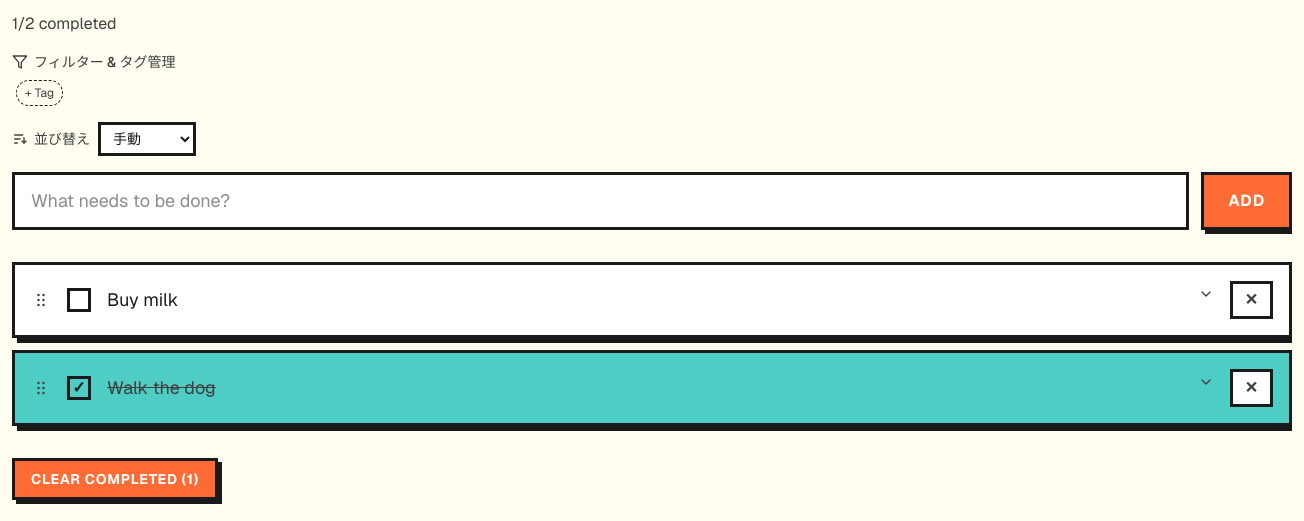
TodoSection › can delete a todo
expect the text "Buy milk" is shown: met, box [107,288,178,311]
Click the button named "Delete task".
click(1251, 300)  # box [1230,281,1273,319]
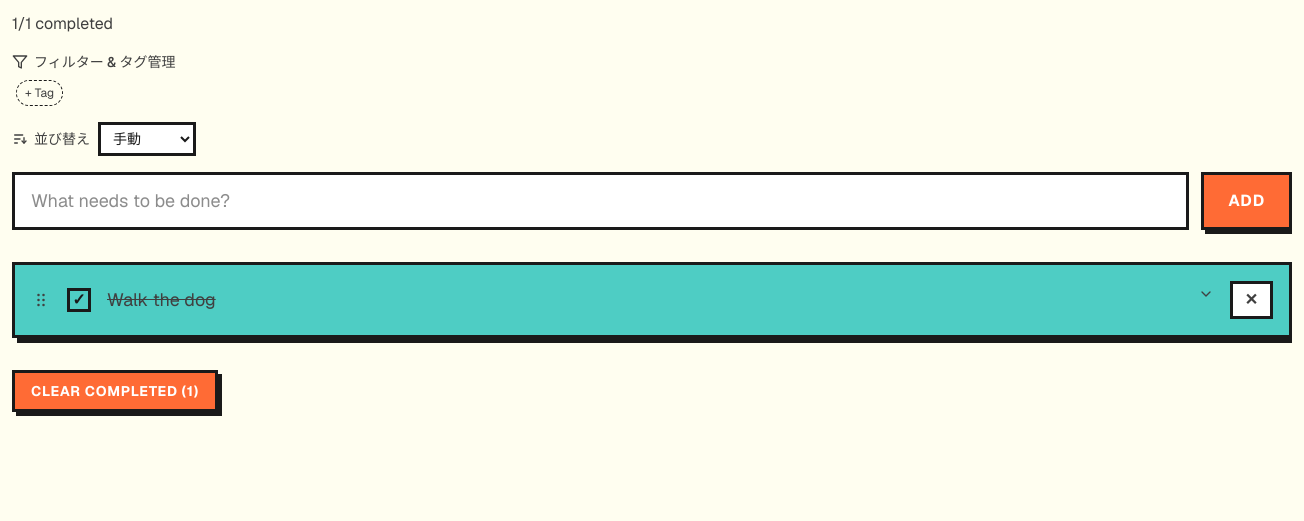
expect the text "Walk the dog" is shown: met, box [107,288,216,311]
expect the button "Buy milk" is gone: met
expect the text "1/1 completed" is shown: met, box [12,13,113,34]
